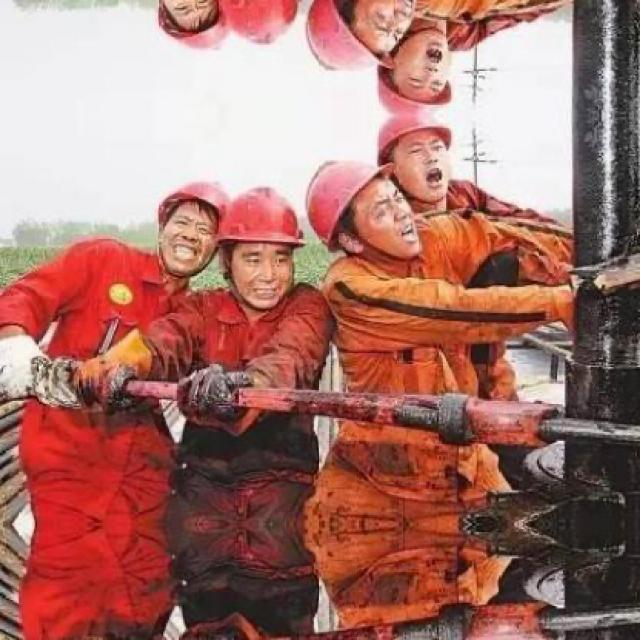helmet: (300, 150, 411, 260), (198, 185, 296, 298), (299, 0, 411, 83), (366, 23, 465, 113), (366, 119, 465, 208), (148, 170, 228, 273), (146, 0, 228, 63), (198, 0, 297, 48)
